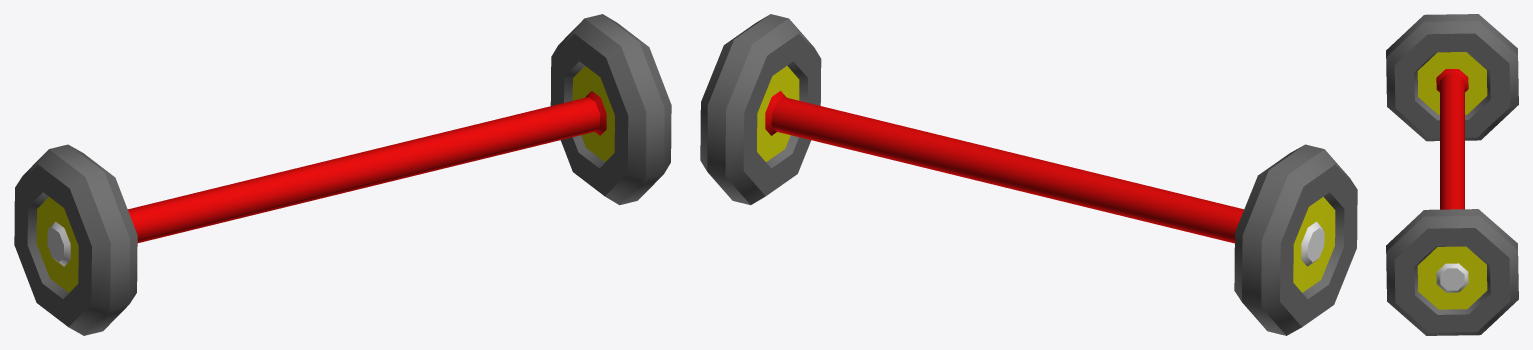
The model's file is Laundress_Wheel2.fbx.
The picture shows the model from 3 angles, left to right: view 1: azimuth 30°, elevation 25°; view 2: azimuth 150°, elevation 25°; view 3: azimuth 270°, elevation 25°; orthographic projection. The views are drawn at different scales.
Visible parts, largest first — view 1: Laundress_Wheel2; view 2: Laundress_Wheel2; view 3: Laundress_Wheel2.
Part boxes in pixels (x1,y1,x2,y2): Laundress_Wheel2: (14, 14, 671, 335); Laundress_Wheel2: (700, 14, 1357, 335); Laundress_Wheel2: (1386, 14, 1518, 335).
Size of the model in its own units: 122 by 32.4 by 32.4.
